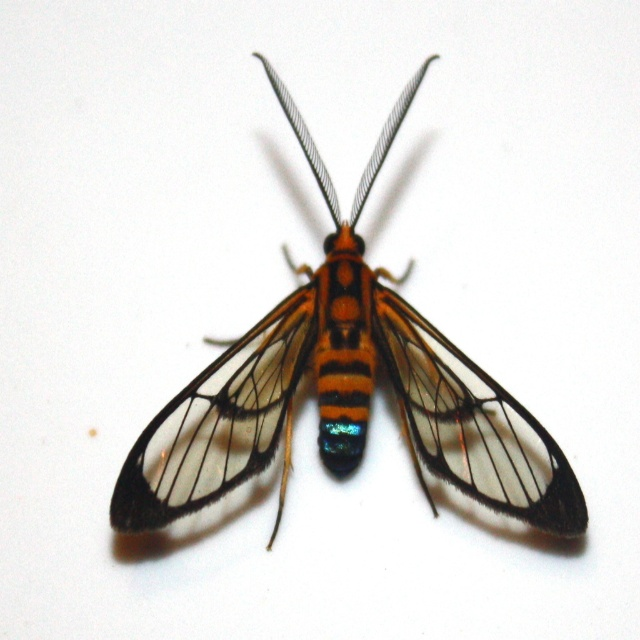Butterfly: (131, 42, 591, 592)
